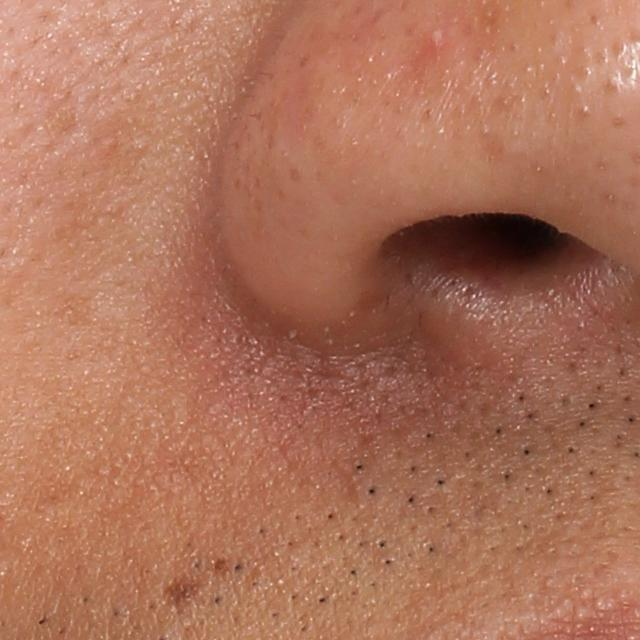nevus: (162, 570, 204, 610)
